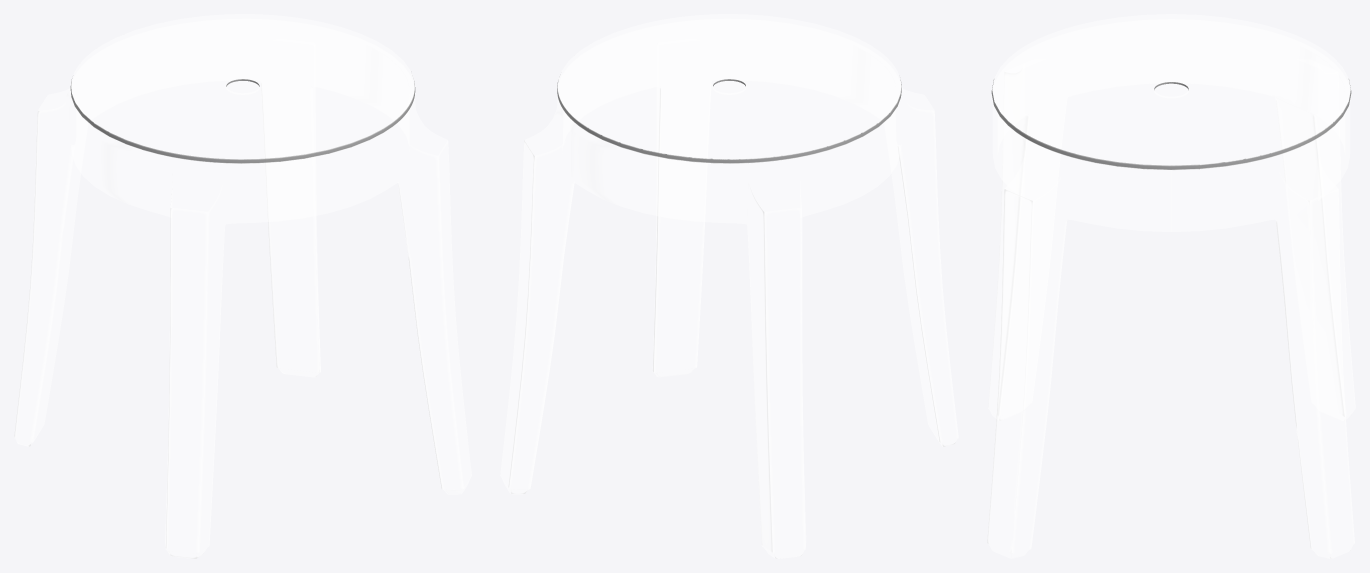
Rendered from DEQ15KAR14139-32203.glb.
The picture shows the model from 3 angles, left to right: view 1: azimuth 30°, elevation 25°; view 2: azimuth 150°, elevation 25°; view 3: azimuth 270°, elevation 25°; orthographic projection. The views are drawn at different scales.
Visible parts, largest first — view 1: polySurface5; view 2: polySurface5; view 3: polySurface5.
Part boxes in pixels (left/top/right/bottom): polySurface5: left=14, top=14, right=471, bottom=558; polySurface5: left=500, top=14, right=958, bottom=558; polySurface5: left=987, top=14, right=1355, bottom=558.
Size of the model in its own units: 0.39 by 0.4604 by 0.39.
1 material, 1 textured.
